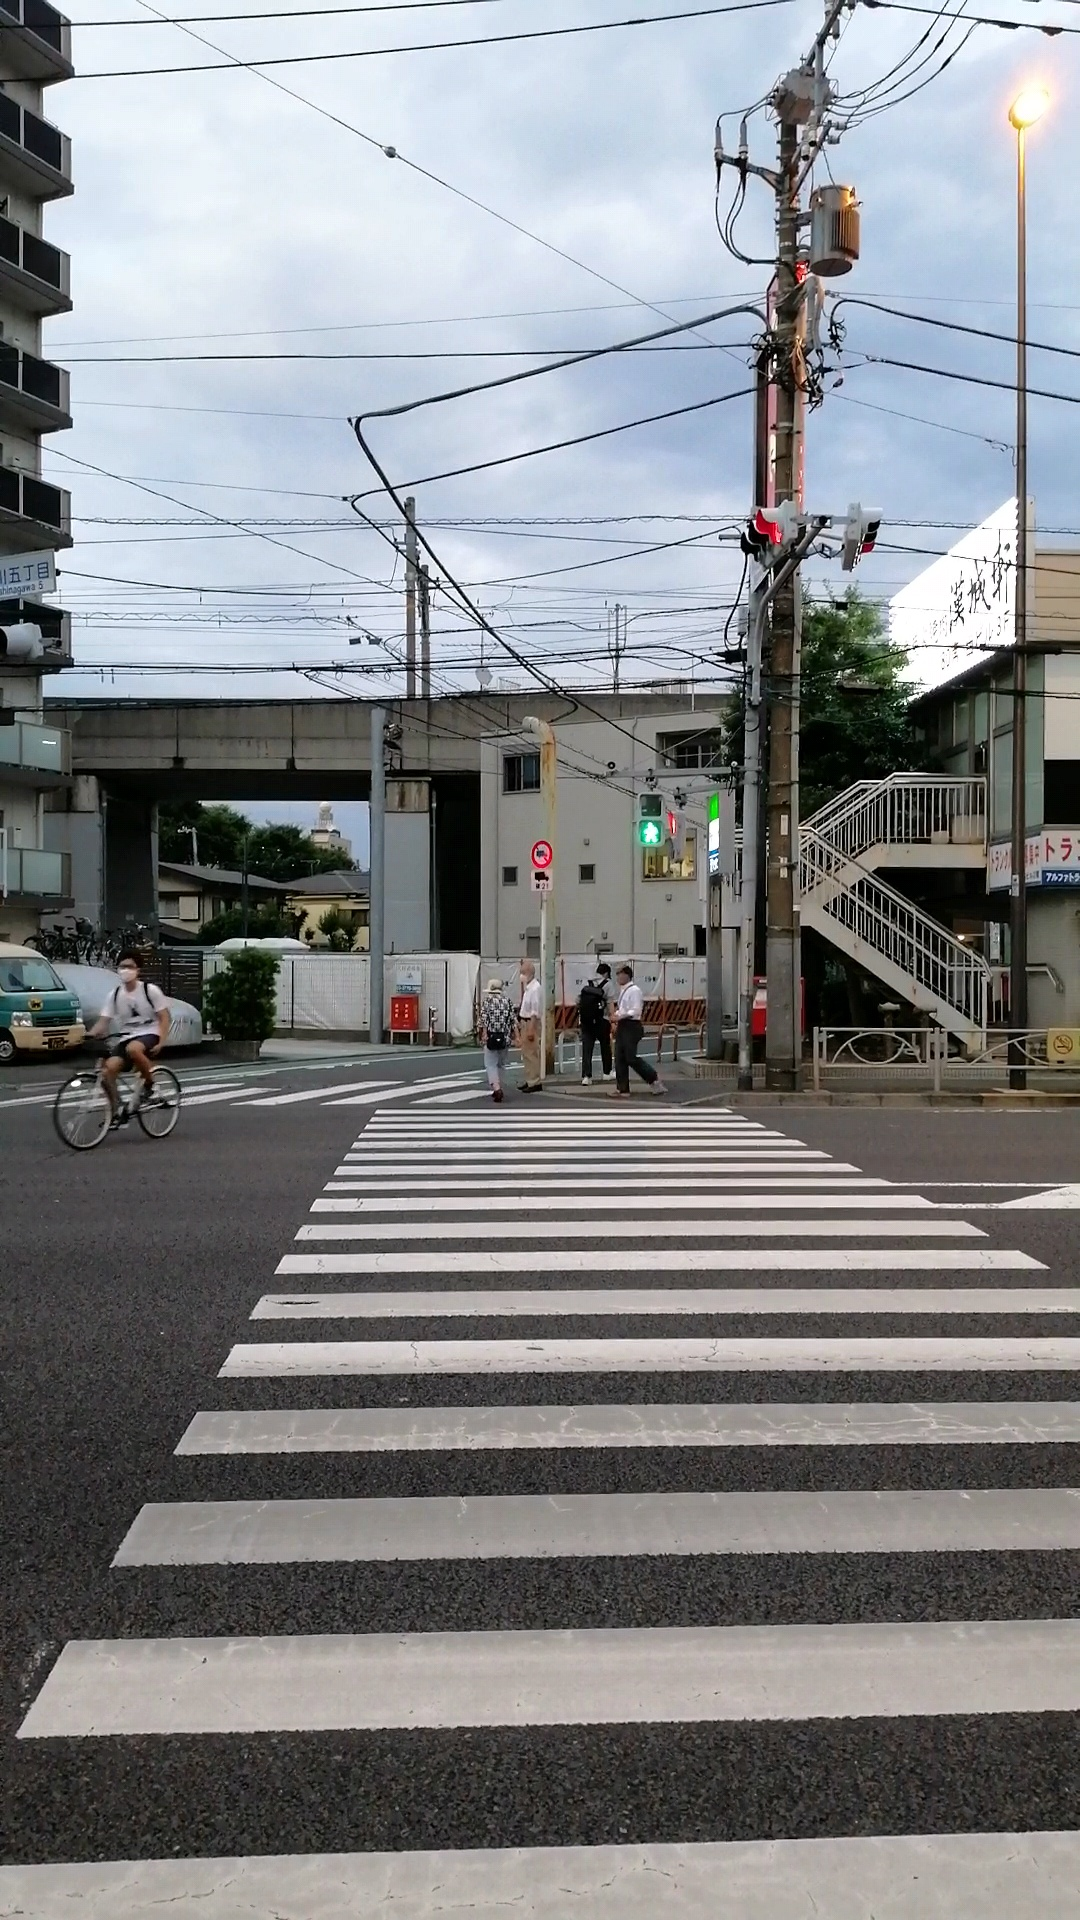green: (637, 791, 665, 847)
